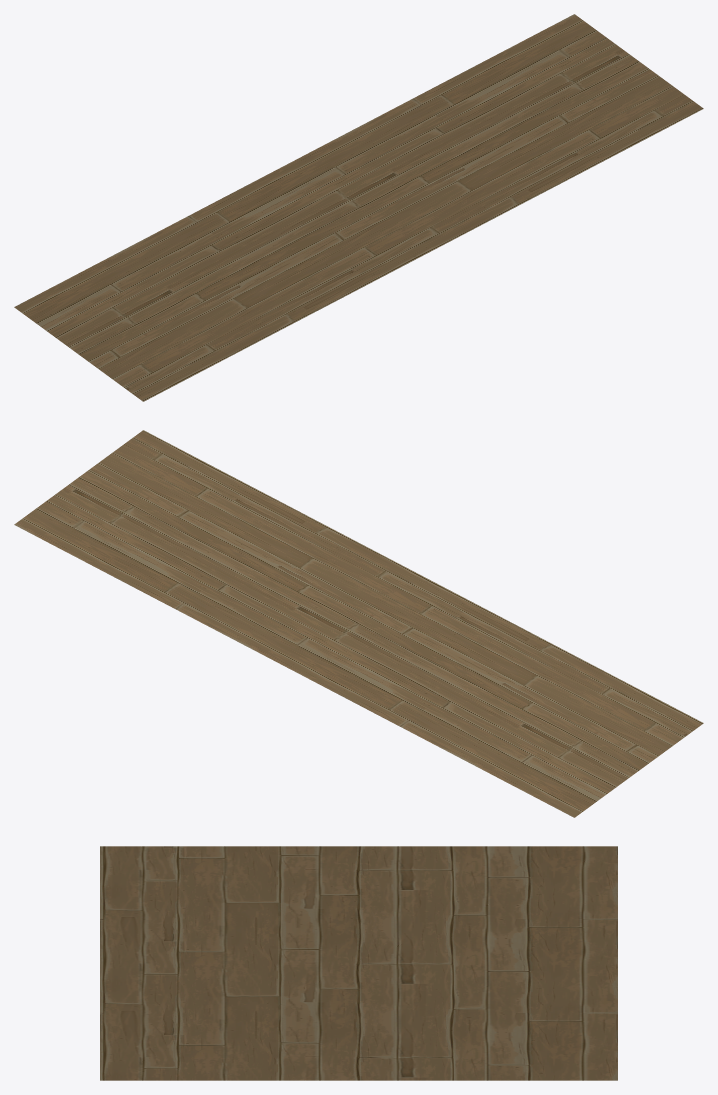
File: SM_brick_building_19.glb
The picture shows the model from 3 angles, top to bottom: view 1: azimuth 30°, elevation 25°; view 2: azimuth 150°, elevation 25°; view 3: azimuth 270°, elevation 25°; orthographic projection. The views are drawn at different scales.
Parts seen in each view (by area): view 1: SM_brick_building_19; view 2: SM_brick_building_19; view 3: SM_brick_building_19.
Boxes of the visible parts, box(x1,y1,x2,y2) form: SM_brick_building_19: box(14, 14, 703, 401); SM_brick_building_19: box(14, 430, 703, 817); SM_brick_building_19: box(100, 846, 617, 1080).
Size of the model in its own units: 6 by 1.6 by 2.4.
1 material, 1 textured.
